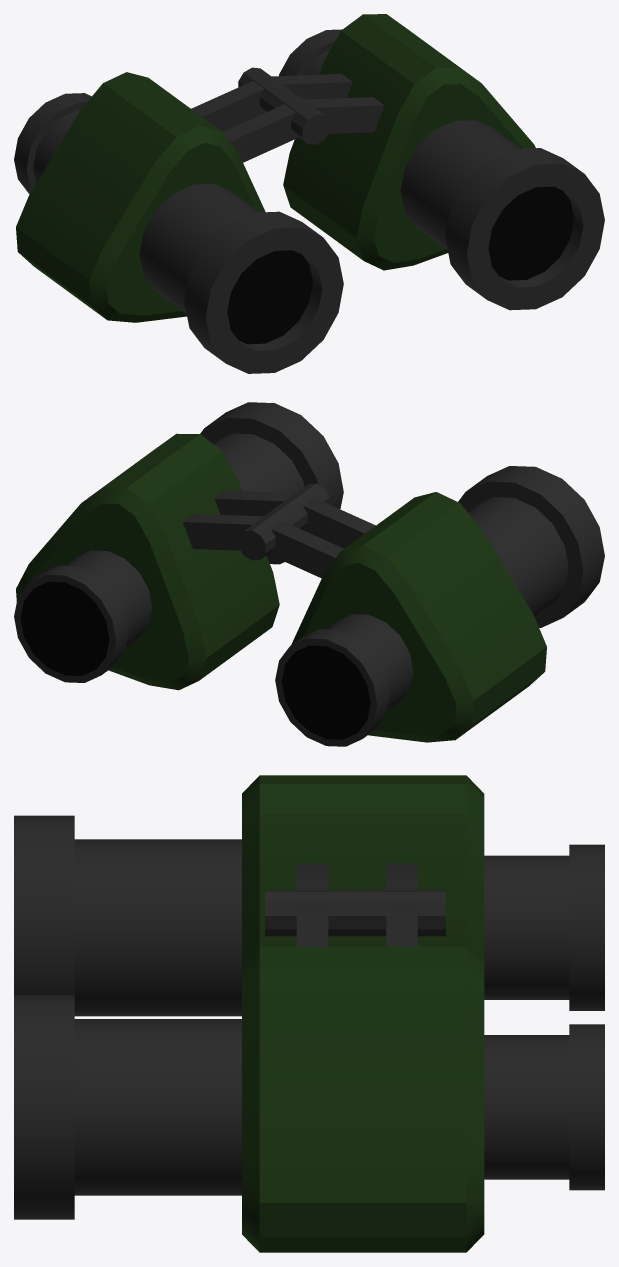
The model's file is Binoculars.fbx.
The picture shows the model from 3 angles, top to bottom: view 1: azimuth 30°, elevation 25°; view 2: azimuth 150°, elevation 25°; view 3: azimuth 270°, elevation 25°; orthographic projection. The views are drawn at different scales.
Visible parts, largest first — view 1: Binoculars; view 2: Binoculars; view 3: Binoculars.
Part boxes in pixels (x1,y1,x2,y2): Binoculars: (14, 14, 604, 373); Binoculars: (14, 402, 604, 746); Binoculars: (14, 775, 604, 1252).
Bounding box in the file's own units: 50.29 × 20.15 × 39.9.
